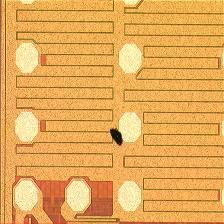PARTICLE: (100, 123, 128, 151)
